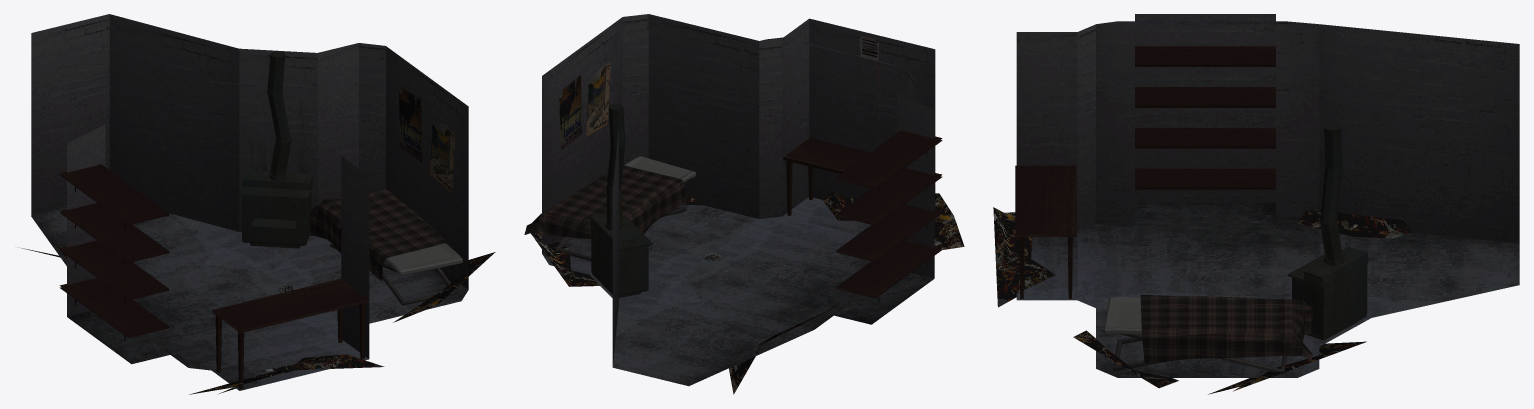
The model's file is bunker_model_01.glb.
3 renders of one model, left to right at view 1: azimuth 30°, elevation 25°; view 2: azimuth 150°, elevation 25°; view 3: azimuth 270°, elevation 25°, orthographic. The views are drawn at different scales.
Parts seen in each view (by area): view 1: bunker_model, prop_shelf_model, wood_stove_model_01, prop_desk_model, prop_blanket_model, prop_cot_model, trash_pile_model_01, decal_poster_02, decal_poster_01, decal_stain_01, trash_pile_model_02; view 2: bunker_model, prop_shelf_model, prop_blanket_model, wood_stove_model_01, prop_desk_model, trash_pile_model_01, decal_poster_02, decal_poster_01, prop_cot_model, trash_pile_model_03, trash_pile_model_04, decal_vent_01; view 3: bunker_model, prop_shelf_model, prop_blanket_model, wood_stove_model_01, prop_desk_model, trash_pile_model_01, prop_cot_model, trash_pile_model_04, trash_pile_model_03, trash_pile_model_02.
Part boxes in pixels (box(x1,y1,x2,y2)): bunker_model: box(31, 14, 468, 390); prop_shelf_model: box(59, 164, 168, 341); wood_stove_model_01: box(239, 51, 313, 248); prop_desk_model: box(212, 278, 368, 388); prop_blanket_model: box(310, 190, 452, 281); prop_cot_model: box(330, 243, 462, 305); trash_pile_model_01: box(189, 354, 384, 394); decal_poster_02: box(398, 87, 422, 161); decal_poster_01: box(430, 121, 455, 192); decal_stain_01: box(240, 100, 313, 235); trash_pile_model_02: box(393, 252, 495, 322); bunker_model: box(542, 14, 935, 386); prop_shelf_model: box(836, 130, 942, 301); prop_blanket_model: box(524, 165, 686, 238); wood_stove_model_01: box(590, 103, 652, 297); prop_desk_model: box(783, 137, 870, 215); trash_pile_model_01: box(822, 192, 964, 249); decal_poster_02: box(559, 75, 582, 149); decal_poster_01: box(586, 62, 610, 136); prop_cot_model: box(555, 156, 695, 260); trash_pile_model_03: box(531, 233, 599, 286); trash_pile_model_04: box(729, 308, 833, 394); decal_vent_01: box(859, 35, 880, 119); bunker_model: box(1016, 14, 1519, 377); prop_shelf_model: box(1135, 46, 1275, 189); prop_blanket_model: box(1140, 294, 1314, 363); wood_stove_model_01: box(1287, 123, 1368, 340); prop_desk_model: box(1015, 165, 1076, 298); trash_pile_model_01: box(993, 207, 1055, 307); prop_cot_model: box(1103, 297, 1287, 374); trash_pile_model_04: box(1297, 210, 1412, 238); trash_pile_model_03: box(1208, 341, 1366, 394); trash_pile_model_02: box(1073, 330, 1178, 388).
Bounding box in the file's own units: 4.79 × 2.61 × 5.26.
Materials: 15 (15 with a texture image).
